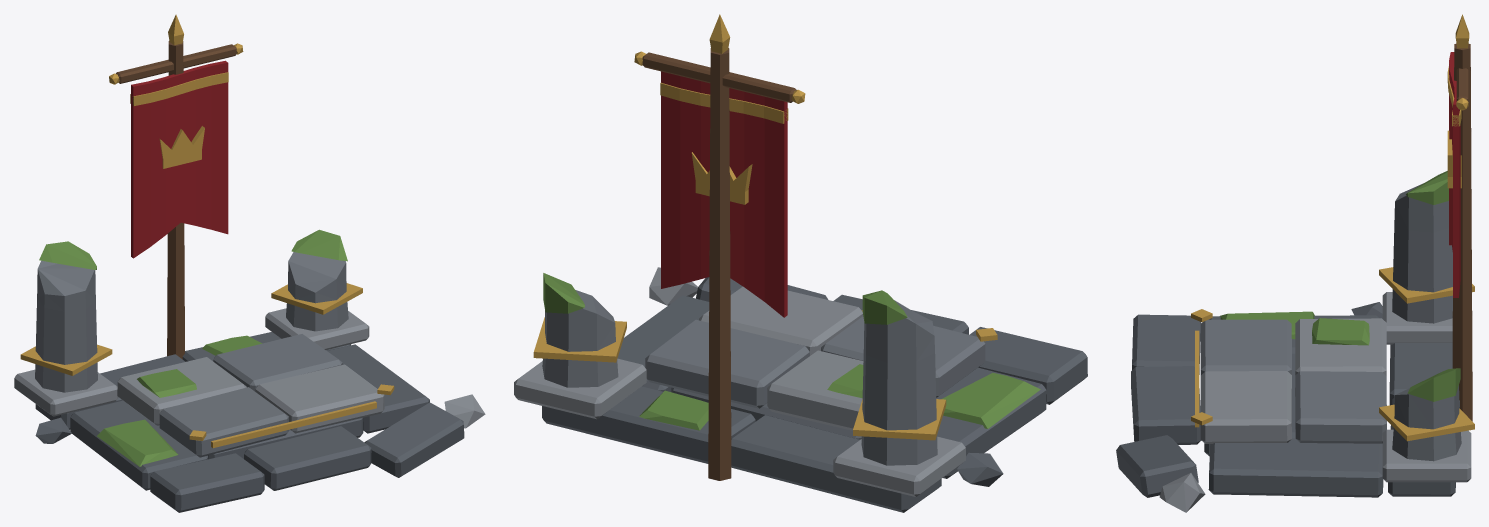
The model's file is Guard_Altar.fbx.
3 renders of one model, left to right at view 1: azimuth 30°, elevation 25°; view 2: azimuth 150°, elevation 25°; view 3: azimuth 270°, elevation 25°, orthographic. The views are drawn at different scales.
Parts seen in each view (by area): view 1: Base, Stone, Banner, Stone2, Gold, Moss, Pole; view 2: Base, Stone, Banner, Stone2, Pole, Moss, Gold; view 3: Base, Stone, Stone2, Pole, Moss, Gold, Banner.
Part boxes in pixels (x1,y1,x2,y2): Base: [35, 332, 464, 512]; Stone: [35, 252, 348, 457]; Banner: [131, 60, 228, 258]; Stone2: [14, 308, 485, 433]; Gold: [20, 14, 394, 448]; Moss: [39, 229, 347, 466]; Pole: [116, 41, 236, 359]; Base: [542, 277, 1087, 512]; Stone: [542, 290, 985, 465]; Banner: [661, 71, 787, 317]; Stone2: [514, 267, 965, 496]; Pole: [642, 48, 796, 480]; Moss: [543, 273, 1040, 430]; Gold: [533, 14, 997, 440]; Base: [1116, 302, 1459, 497]; Stone: [1200, 183, 1461, 461]; Stone2: [1159, 292, 1471, 512]; Pole: [1452, 43, 1472, 421]; Moss: [1220, 171, 1460, 401]; Gold: [1191, 14, 1474, 441]; Banner: [1449, 52, 1460, 297].
Size of the model in its own units: 7.9 by 7.79 by 6.06.
